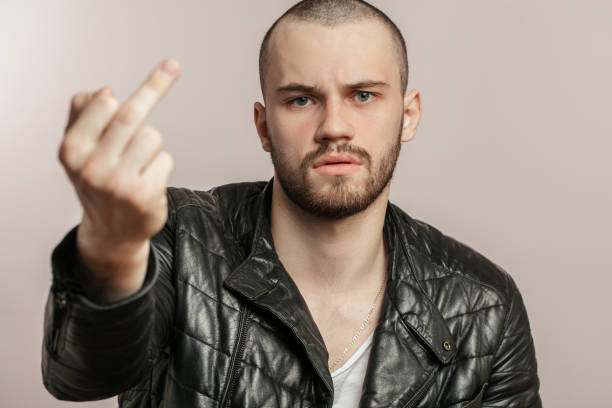insulting_gesture: (58, 54, 181, 242)
